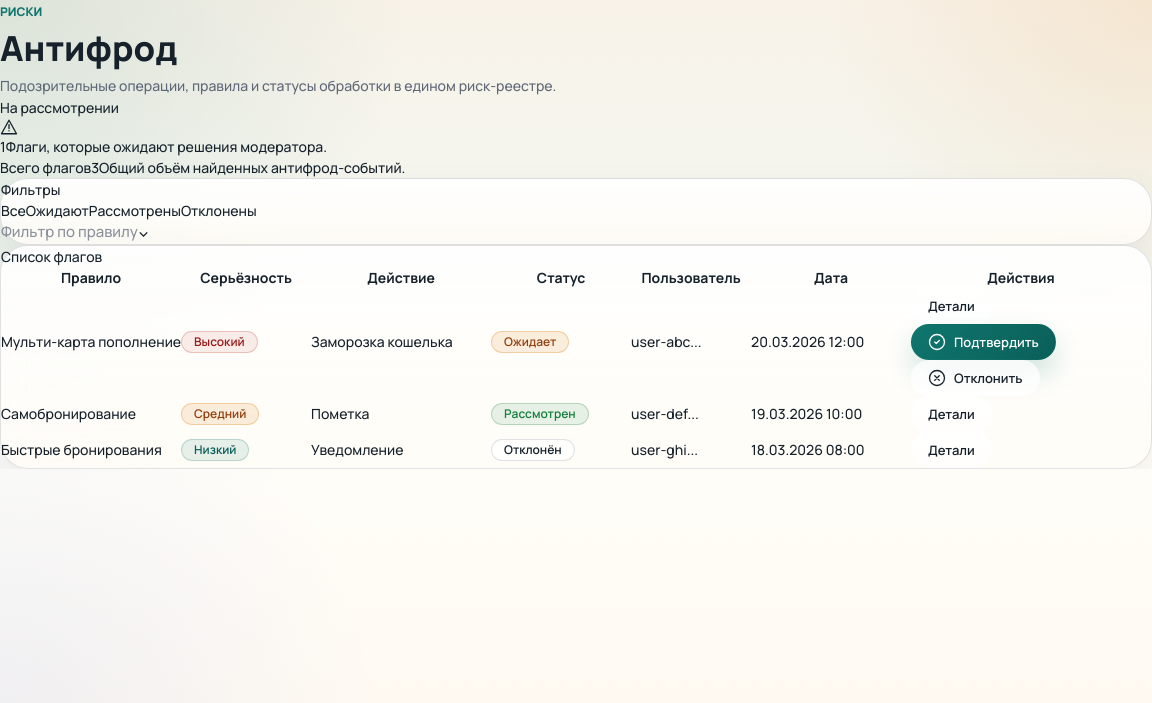
Test: AntiFraudDashboard › opens detail drawer on click
The width and height of the screenshot is (1152, 703).
Step 1. Click the 1st button "Детали" → (952, 306), box top-left (911, 288), bottom-right (992, 324)
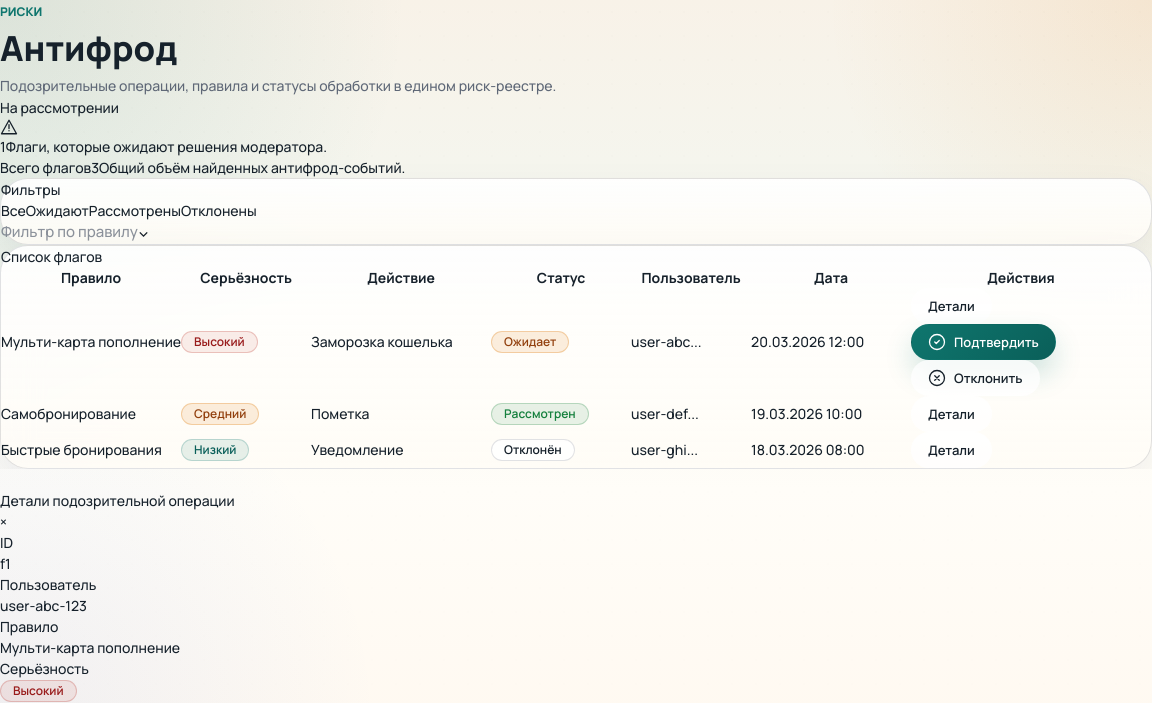
Result: the text "Детали подозрительной операции" is shown at top-left (0, 491), bottom-right (235, 510)
